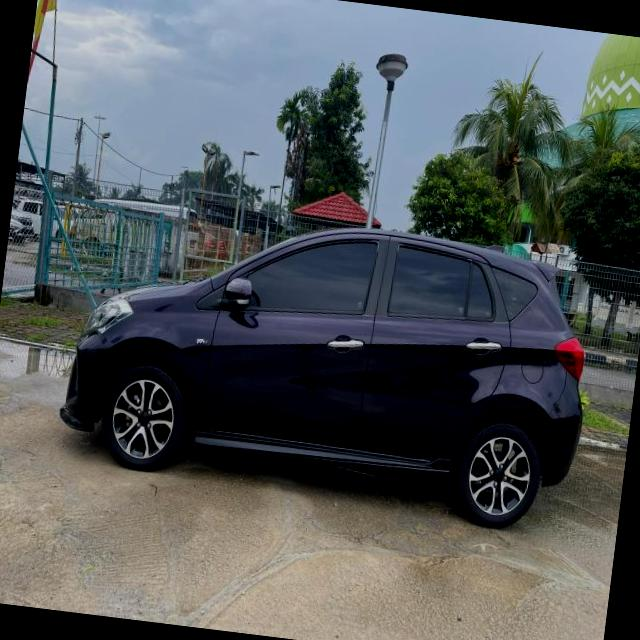PeroduaMyvi: (50, 190, 602, 537)
